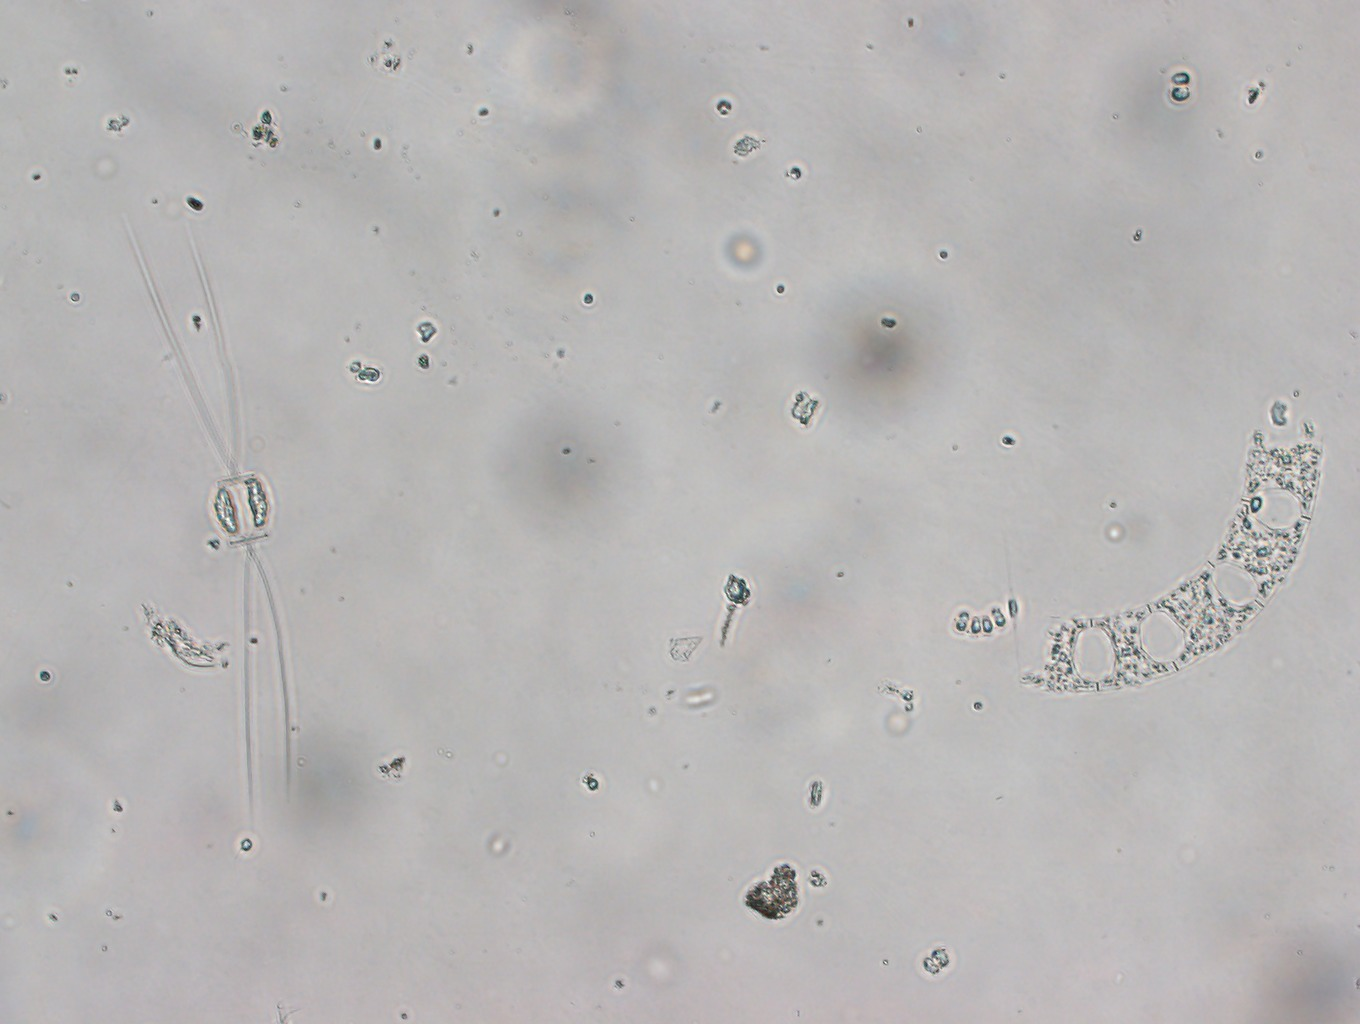chaetoceros: (108, 207, 303, 825)
eucampia: (1001, 379, 1331, 698)
